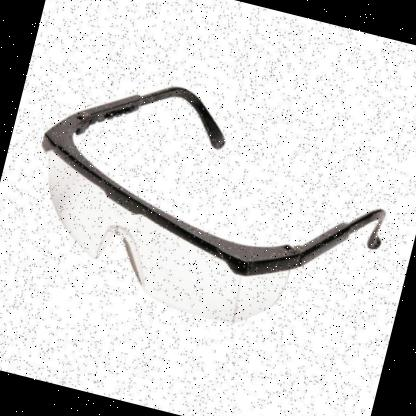oculos: (0, 51, 416, 361)
